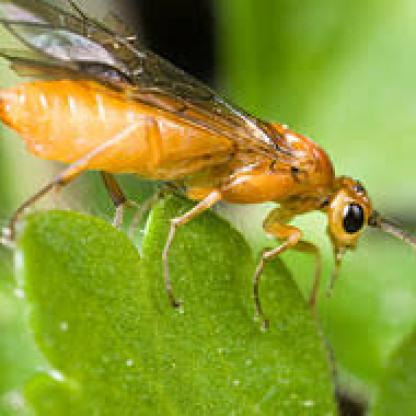sawfly: (0, 0, 416, 333)
